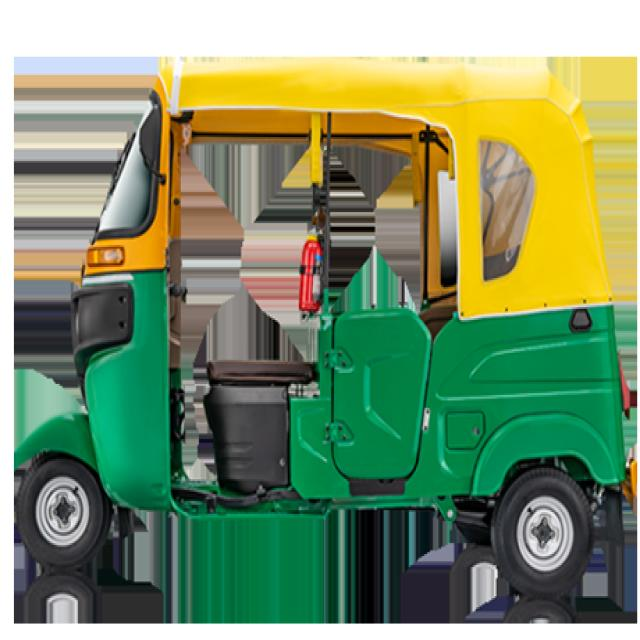autorickshaw: (13, 59, 626, 596)
